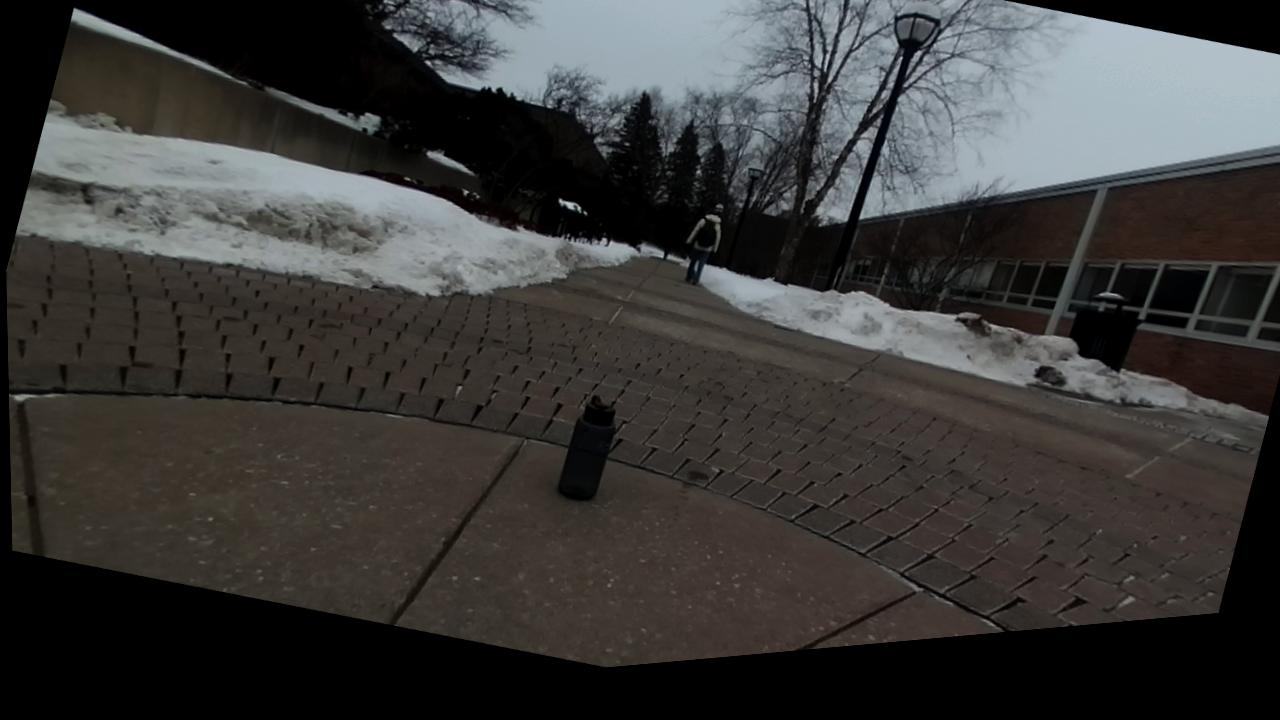bottle: (558, 395, 616, 499)
